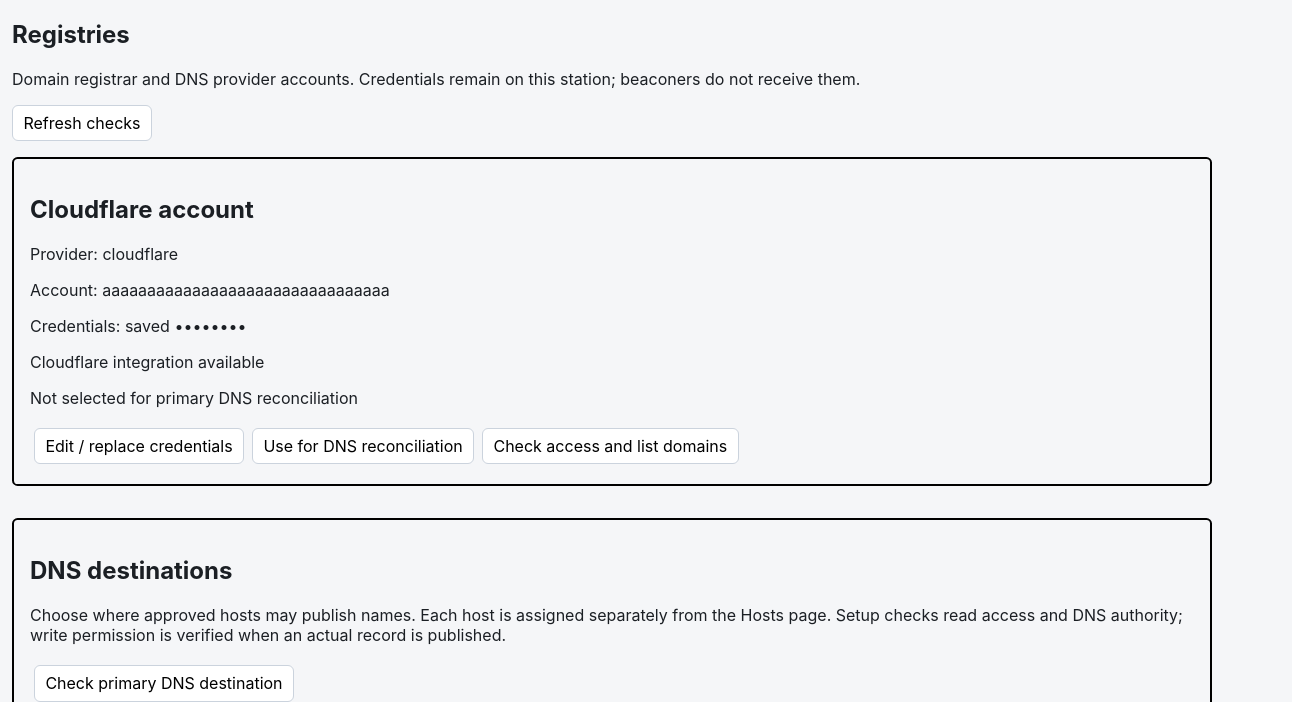
Test: check throttling is presented to the operator
Check: the heading "Cloudflare account" is shown, box [30, 195, 254, 224]
Step 1. Click the button "Check access and list domains" → (610, 446), box [482, 428, 739, 464]
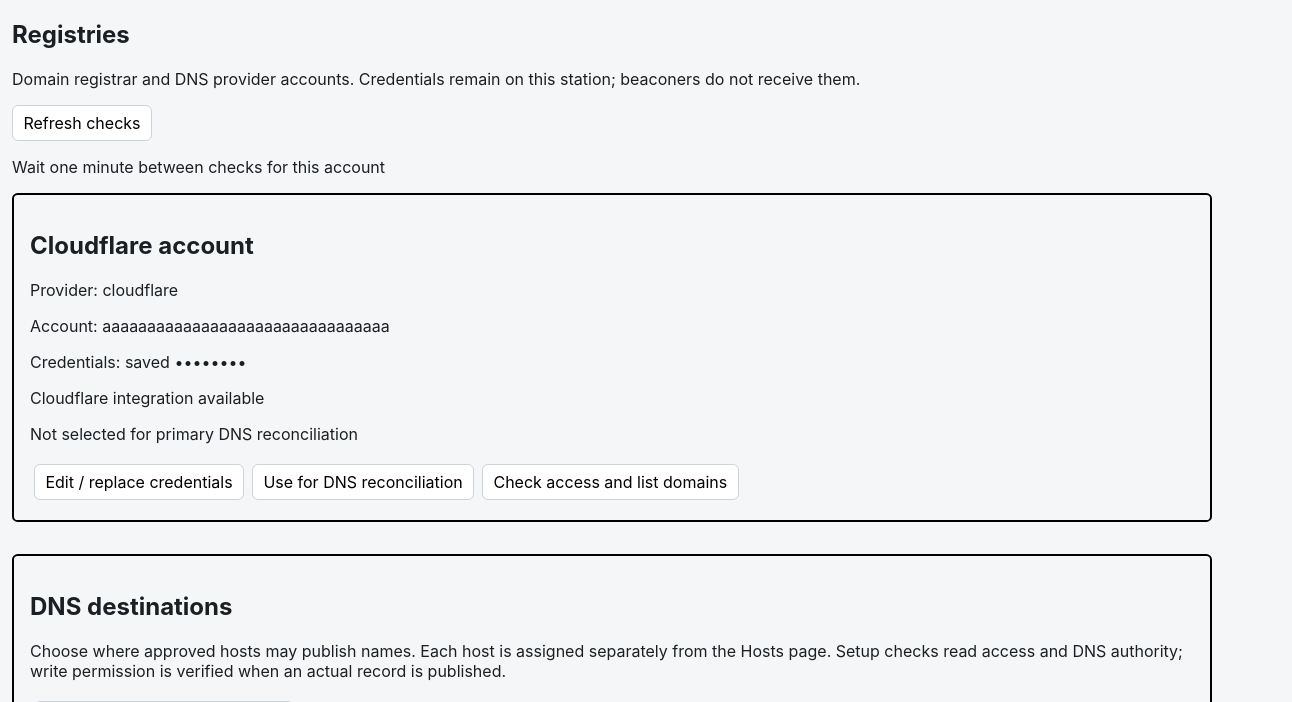
Check: the message shows "Wait one minute", box [12, 157, 385, 177]
